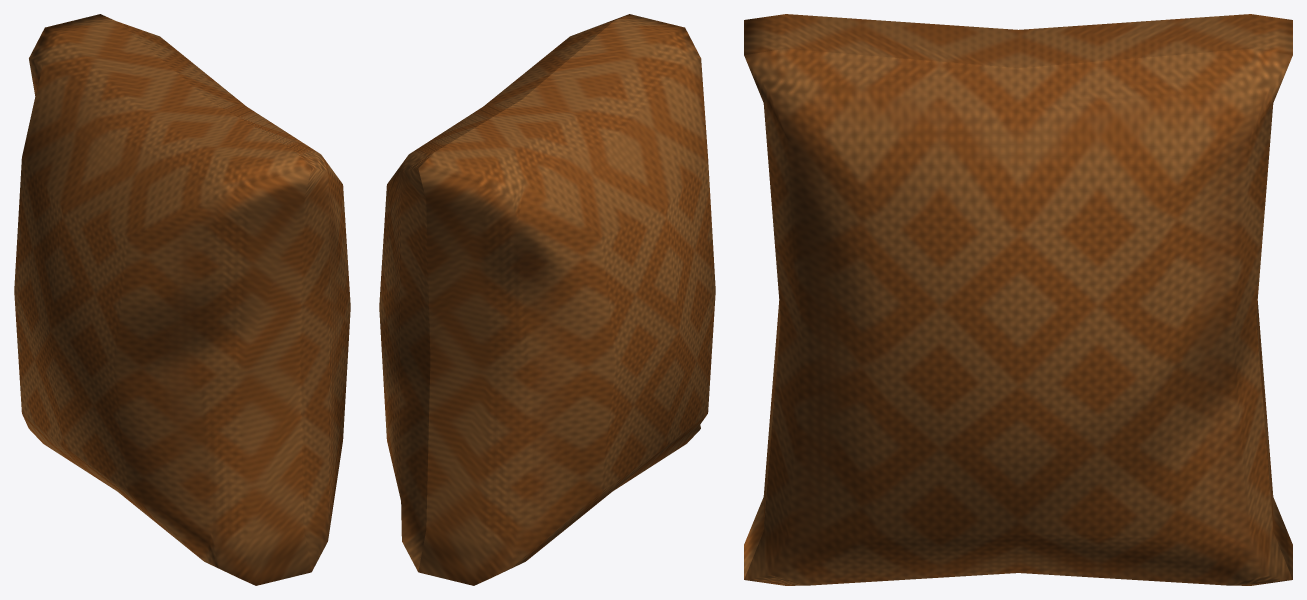
Rendered from Cushion_A.fbx.
The picture shows the model from 3 angles, left to right: view 1: azimuth 30°, elevation 25°; view 2: azimuth 150°, elevation 25°; view 3: azimuth 270°, elevation 25°; orthographic projection. The views are drawn at different scales.
Parts seen in each view (by area): view 1: U_Cushion_A; view 2: U_Cushion_A; view 3: U_Cushion_A.
Boxes of the visible parts, x1,y1,x2,y2 form: U_Cushion_A: (14, 14, 350, 585); U_Cushion_A: (379, 14, 715, 585); U_Cushion_A: (744, 14, 1292, 585).
Size of the model in its own units: 48.83 by 73.34 by 67.9.
